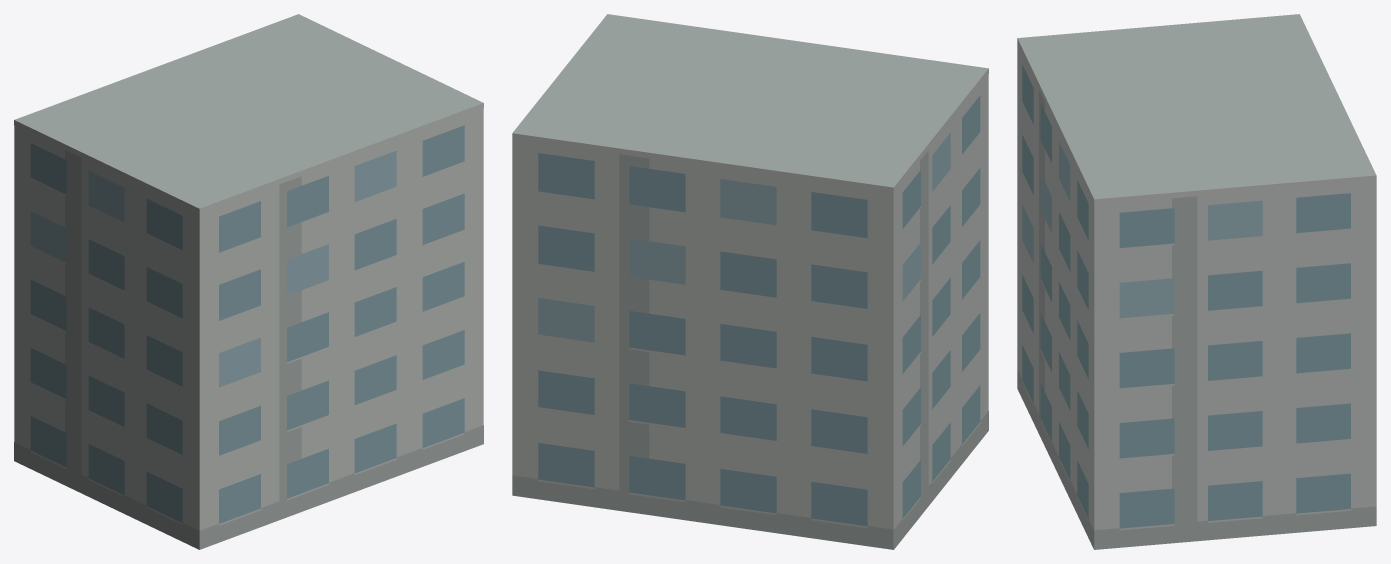
File: residential-0f5d1cd2-aee4-4e57-8ba4-ba75166b4b2b.glb
The picture shows the model from 3 angles, left to right: view 1: azimuth 30°, elevation 25°; view 2: azimuth 150°, elevation 25°; view 3: azimuth 270°, elevation 25°; orthographic projection. The views are drawn at different scales.
Visible parts, largest first — view 1: residential-0f5d1cd2-aee4-4e57-8ba4-ba75166b4b2b.tmp; view 2: residential-0f5d1cd2-aee4-4e57-8ba4-ba75166b4b2b.tmp; view 3: residential-0f5d1cd2-aee4-4e57-8ba4-ba75166b4b2b.tmp.
Part boxes in pixels (box(x1,y1,x2,y2)): residential-0f5d1cd2-aee4-4e57-8ba4-ba75166b4b2b.tmp: box(14, 14, 483, 549); residential-0f5d1cd2-aee4-4e57-8ba4-ba75166b4b2b.tmp: box(512, 14, 988, 549); residential-0f5d1cd2-aee4-4e57-8ba4-ba75166b4b2b.tmp: box(1017, 14, 1376, 549).
Size of the model in its own units: 17.3 by 15.25 by 14.17.
